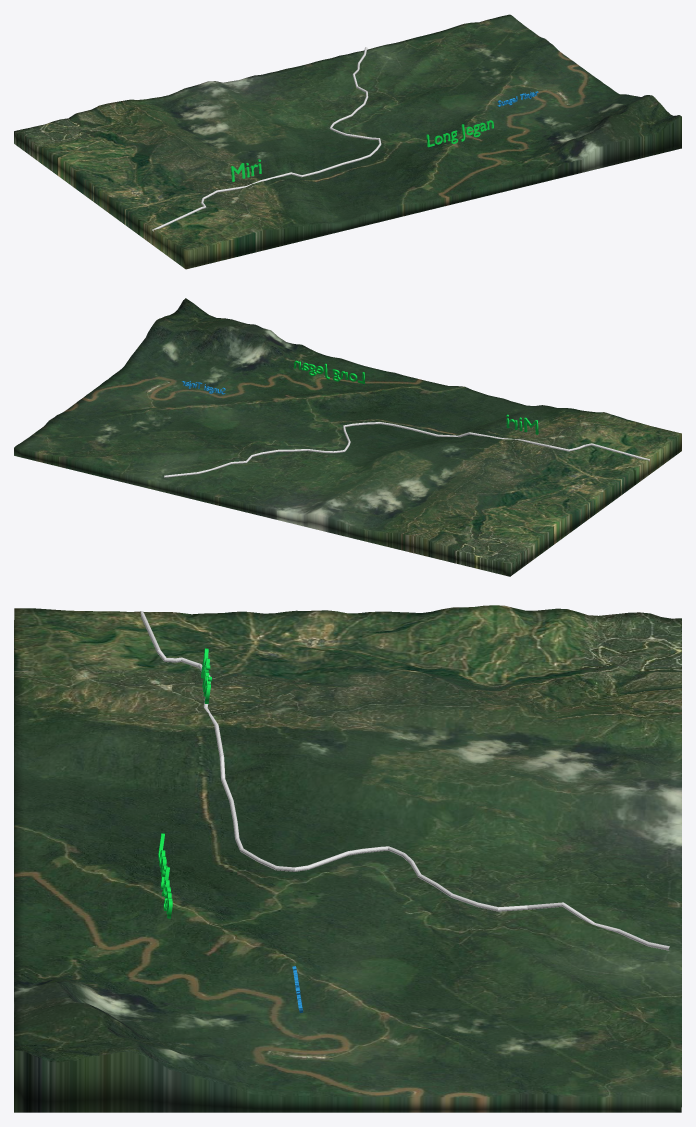
3 renders of one model, top to bottom at view 1: azimuth 30°, elevation 25°; view 2: azimuth 150°, elevation 25°; view 3: azimuth 270°, elevation 25°, orthographic. The views are drawn at different scales.
Visible parts, largest first — view 1: EXPORT_GOOGLE_SAT_WM, Cube, Text; view 2: EXPORT_GOOGLE_SAT_WM, Cube, Text; view 3: EXPORT_GOOGLE_SAT_WM, Cube.
Part boxes in pixels (x1,y1,x2,y2): EXPORT_GOOGLE_SAT_WM: (14, 14, 681, 269); Cube: (152, 47, 381, 231); Text: (426, 120, 493, 147); EXPORT_GOOGLE_SAT_WM: (14, 298, 681, 576); Cube: (164, 422, 649, 477); Text: (294, 360, 364, 383); EXPORT_GOOGLE_SAT_WM: (14, 605, 681, 1112); Cube: (140, 611, 669, 950).
Size of the model in its own units: 12256 by 1026 by 7341.
4 materials, 1 textured.
